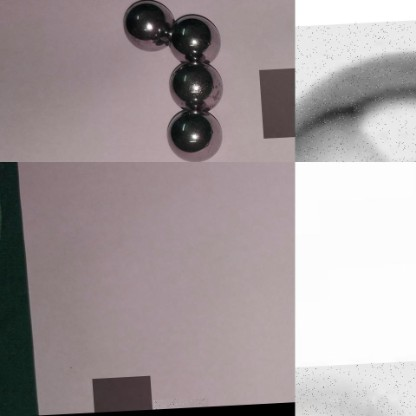ironball: (295, 13, 415, 162), (295, 362, 415, 415), (163, 106, 229, 165), (165, 58, 227, 112), (170, 8, 224, 66), (255, 71, 295, 142), (120, 0, 172, 51), (87, 377, 147, 413), (147, 399, 203, 411)
